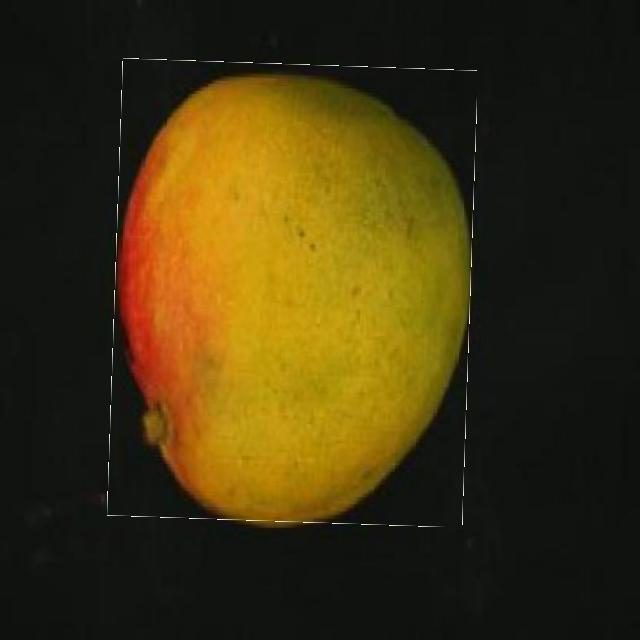mango: (111, 61, 474, 524)
